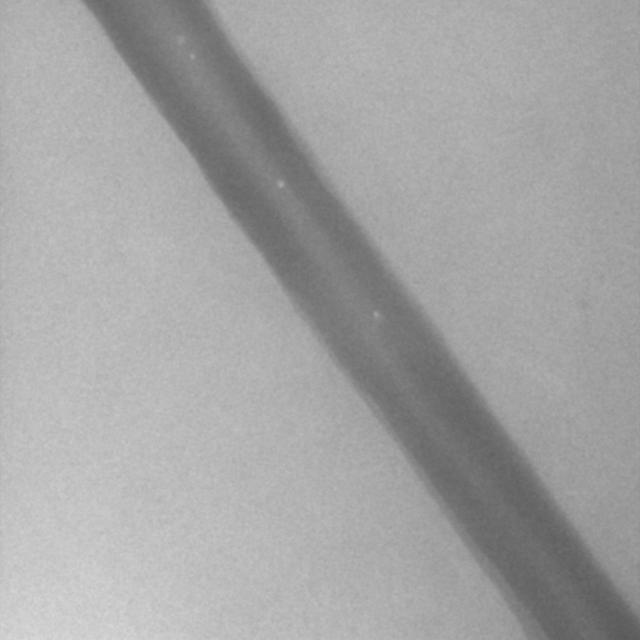air hole: (371, 308, 382, 320), (275, 178, 285, 190)
